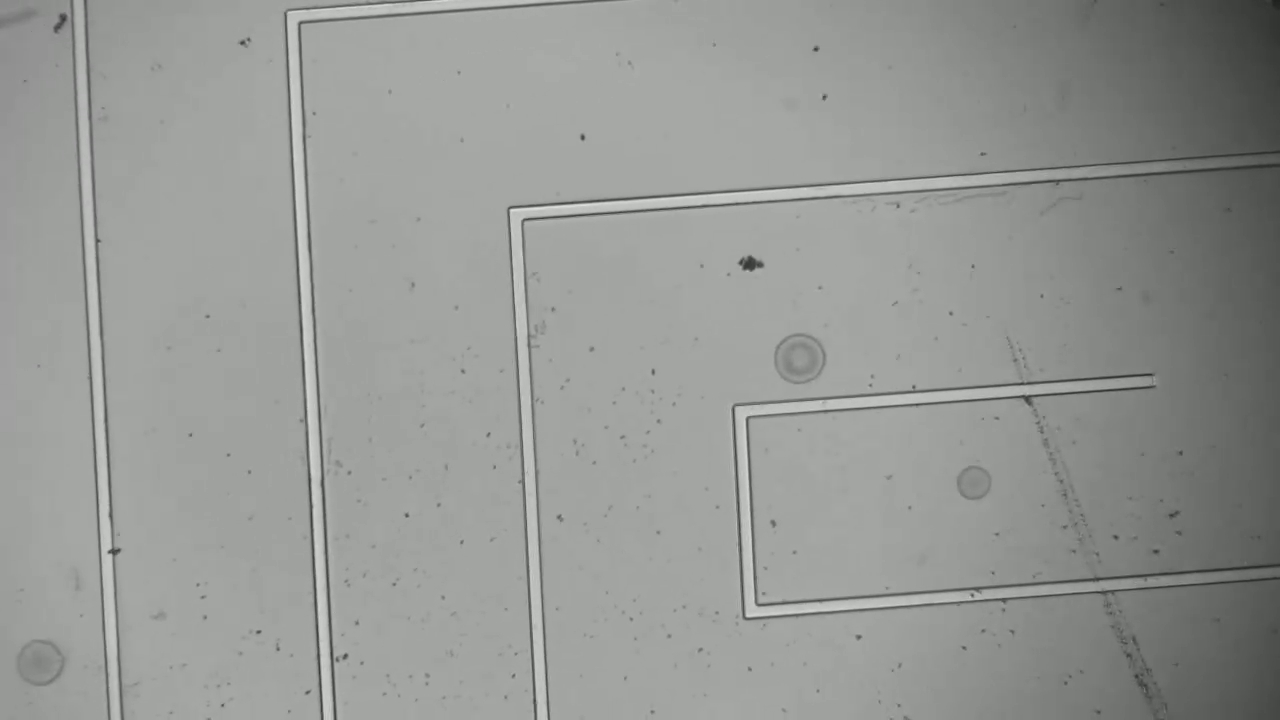scratch: (1007, 335, 1181, 714)
